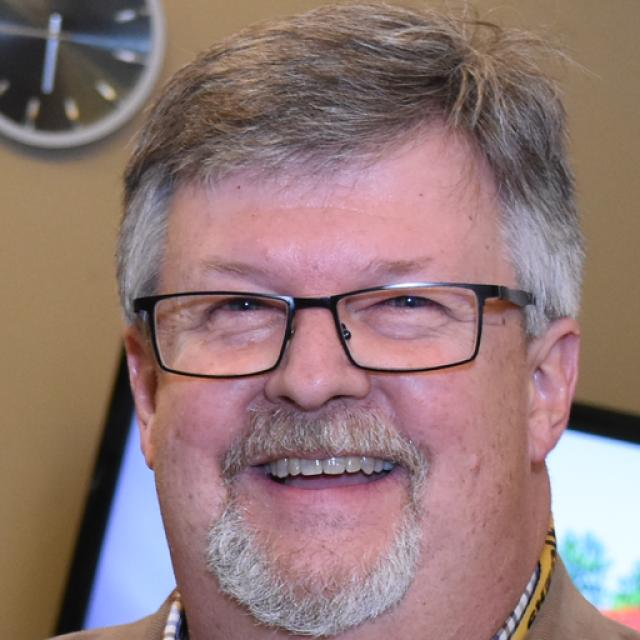Acne: (466, 454, 487, 483)
